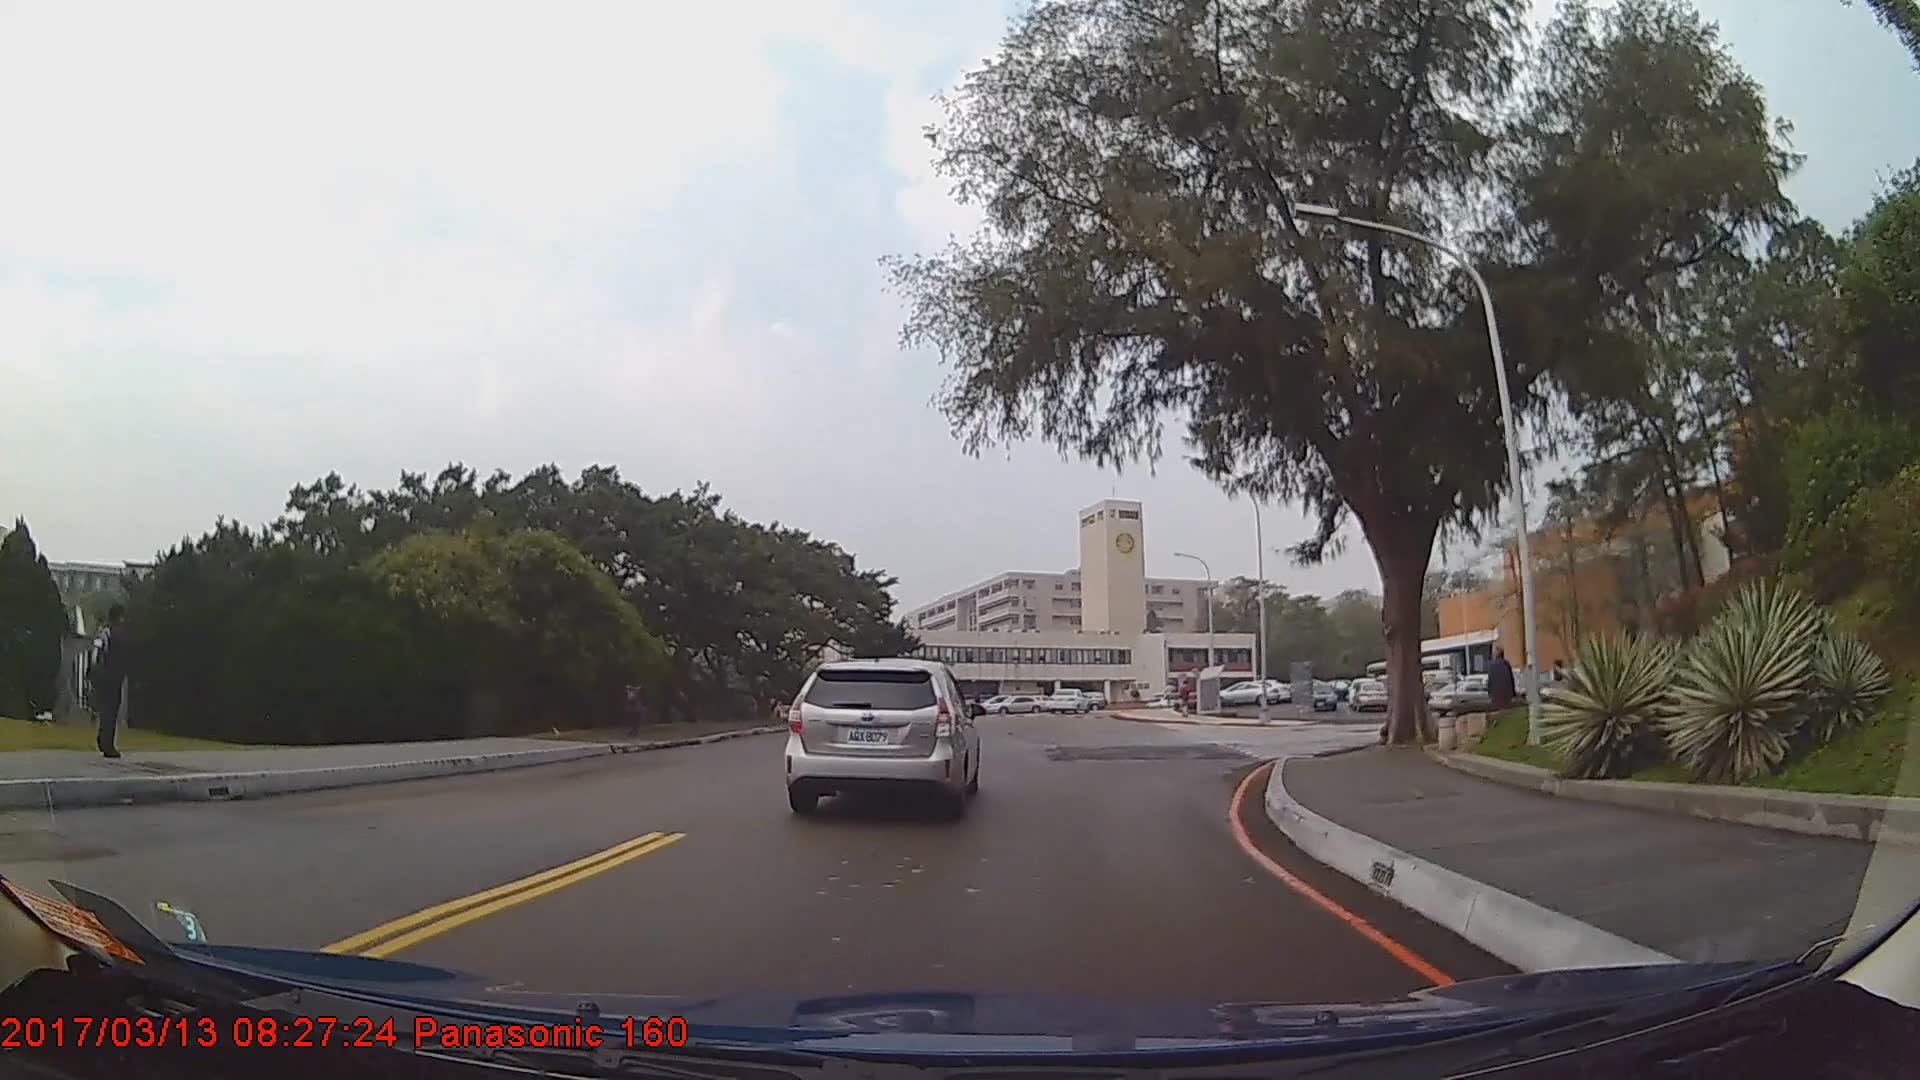pedestrian: (81, 606, 148, 762), (1486, 646, 1523, 753)
vehicle: (784, 655, 977, 816), (1429, 678, 1511, 715), (1216, 679, 1283, 708), (984, 691, 1047, 716), (1043, 687, 1091, 714), (1352, 679, 1388, 712), (1307, 682, 1336, 711)
